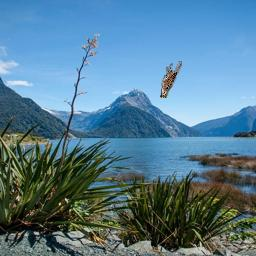Sparrow: (160, 61, 182, 98)
